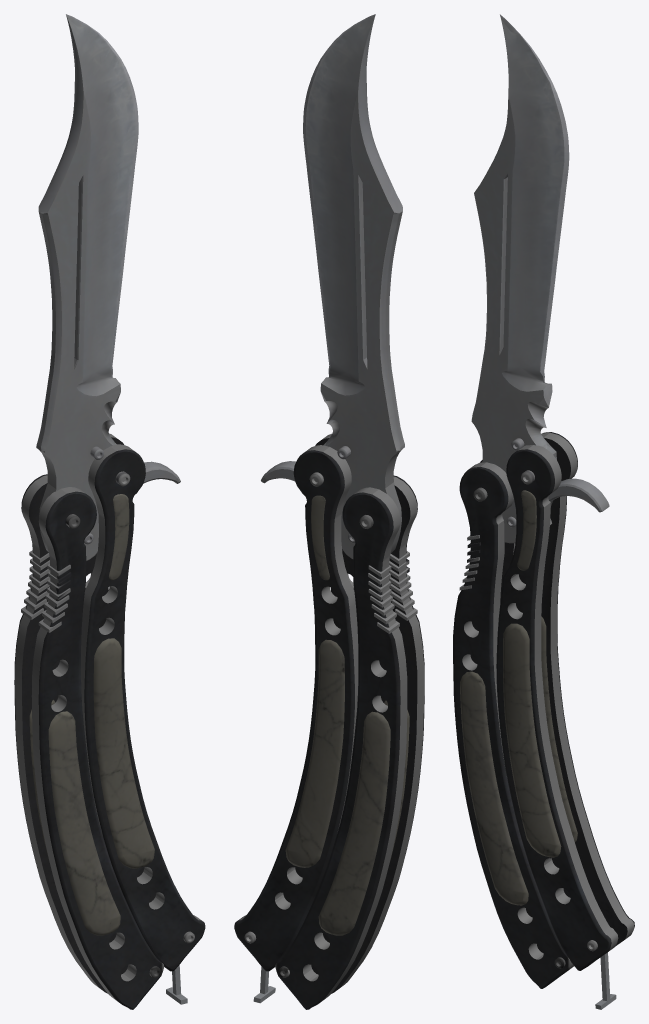
The model's file is weapon_knife_butterfly.glb.
3 views of the same model, side by side, from view 1: azimuth 30°, elevation 25°; view 2: azimuth 150°, elevation 25°; view 3: azimuth 330°, elevation 25° (orthographic). The views are drawn at different scales.
Visible parts, largest first — view 1: weapons/models/knife/knife_butterfly/weapon_knife_butterfly; view 2: weapons/models/knife/knife_butterfly/weapon_knife_butterfly; view 3: weapons/models/knife/knife_butterfly/weapon_knife_butterfly.
Part boxes in pixels (bbox=[...]): weapons/models/knife/knife_butterfly/weapon_knife_butterfly: bbox=[14, 14, 205, 1009]; weapons/models/knife/knife_butterfly/weapon_knife_butterfly: bbox=[234, 14, 424, 1009]; weapons/models/knife/knife_butterfly/weapon_knife_butterfly: bbox=[453, 14, 634, 1009].
Bounding box in the file's own units: 2.28 × 13.26 × 0.7888.
Materials: 1 (1 with a texture image).
